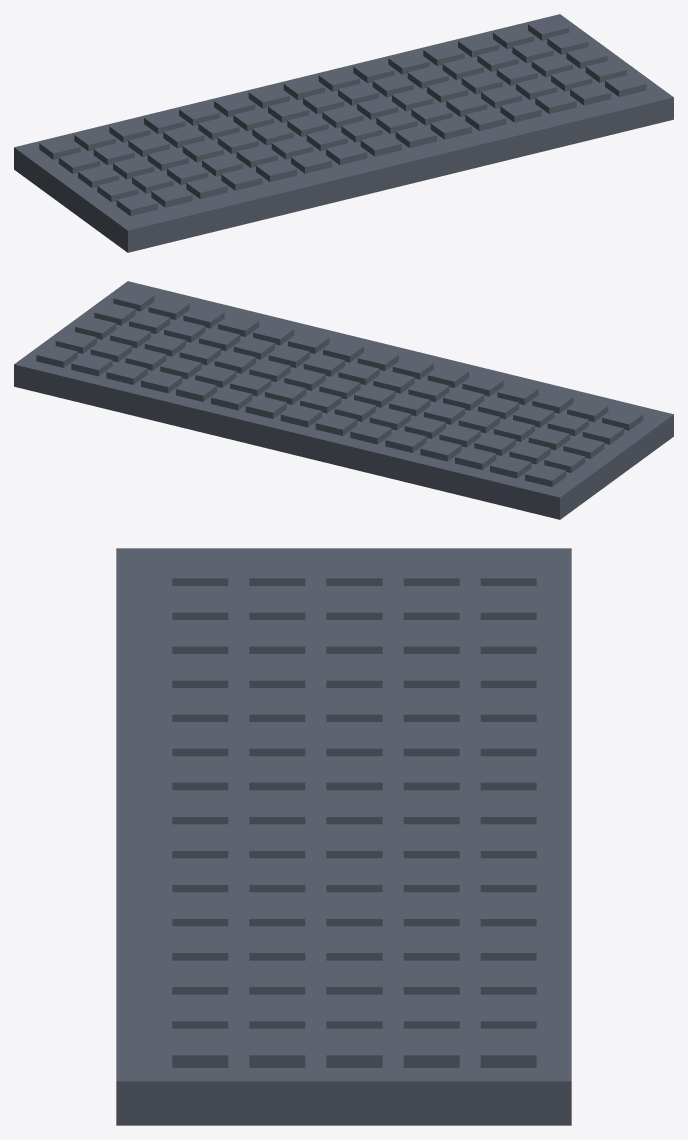
Rendered from wafer-keyboard-2.glb.
3 renders of one model, top to bottom at view 1: azimuth 30°, elevation 25°; view 2: azimuth 150°, elevation 25°; view 3: azimuth 270°, elevation 25°, orthographic. The views are drawn at different scales.
Visible parts, largest first — view 1: dark key (×75), black keyboard body; view 2: dark key (×75), black keyboard body; view 3: dark key (×75), black keyboard body.
Part boxes in pixels (box(x1,y1,x2,y2)): dark key (×75): box(39, 17, 646, 216); black keyboard body: box(14, 14, 673, 252); dark key (×75): box(36, 288, 643, 486); black keyboard body: box(14, 281, 673, 519); dark key (×75): box(172, 552, 536, 1067); black keyboard body: box(116, 548, 571, 1125).
Bounding box in the file's own units: 0.36 × 0.018 × 0.13.
